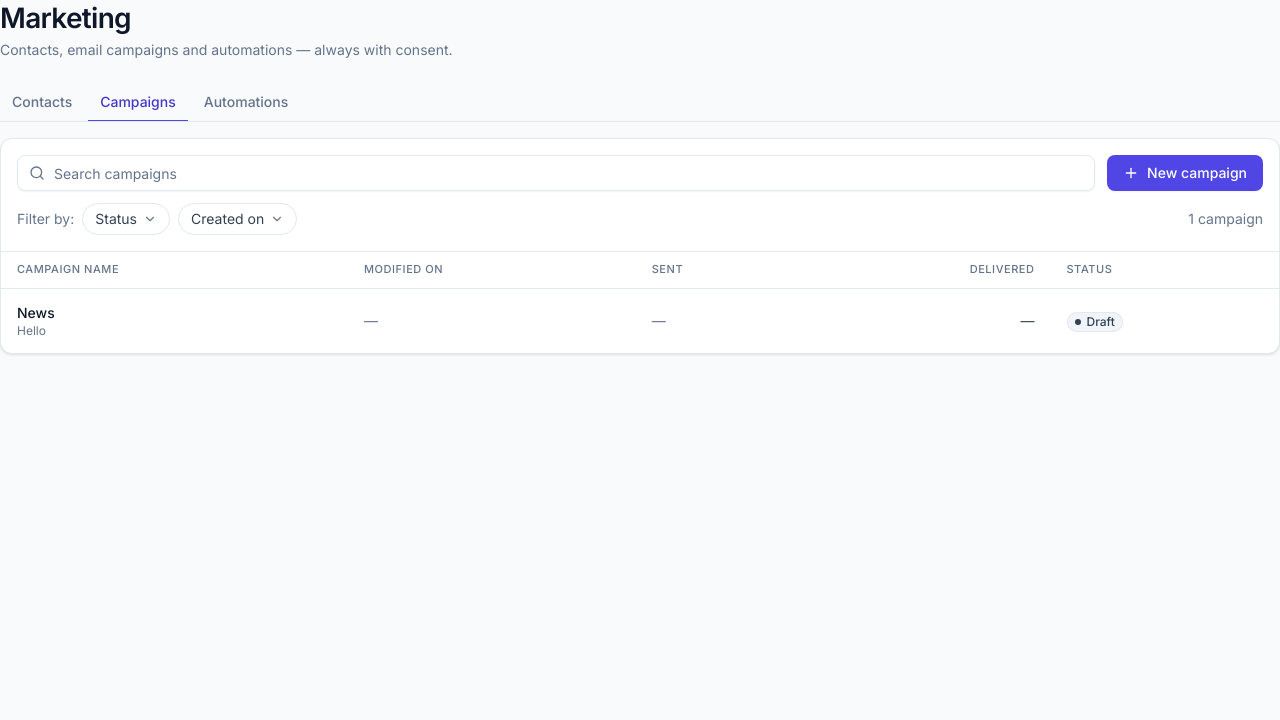
Test: shows how many contacts a campaign reaches and how many are excluded without consent
Click the text "News".
click(36, 312)  # box top-left (17, 304), bottom-right (55, 321)
(page scrolled)
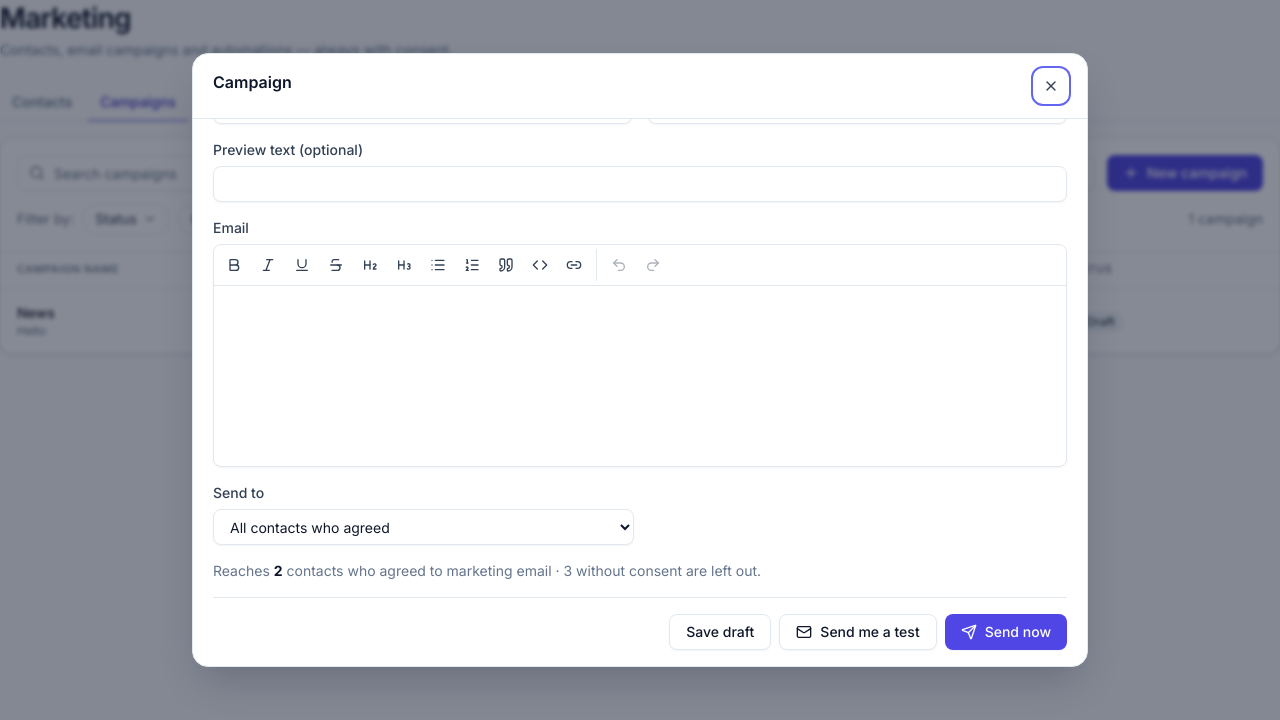
Check: the text "3 without consent are left out" is shown, box top-left (552, 562), bottom-right (757, 579)
Check: the button "Send now" is enabled, box top-left (945, 614), bottom-right (1067, 650)
